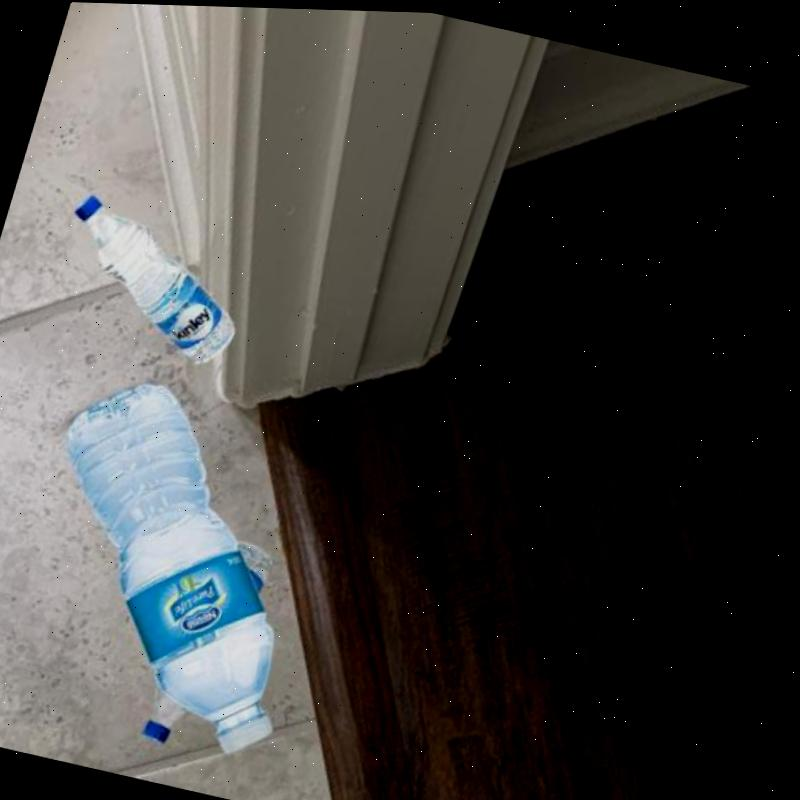botella: (0, 361, 378, 760), (45, 189, 269, 369), (152, 530, 290, 755)
